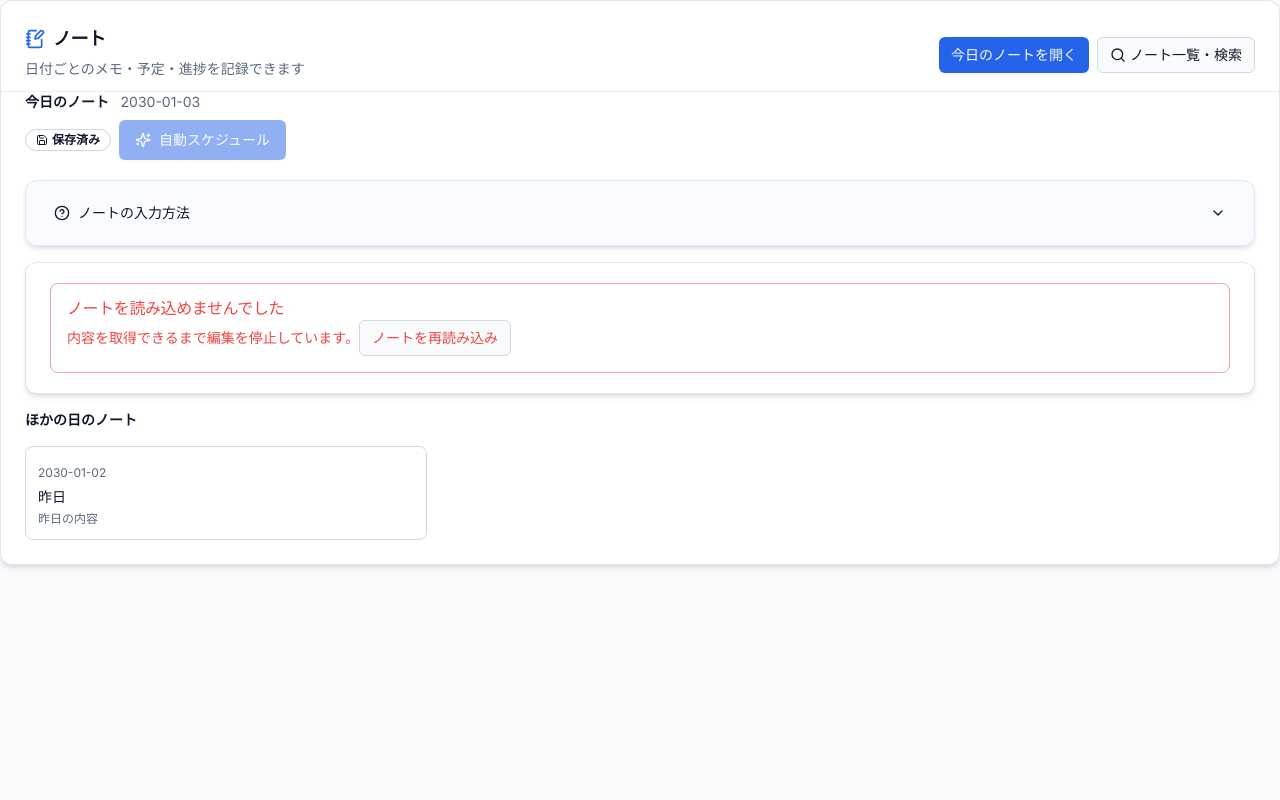
Test: retries today's load independently and never presents another day's note as today
The width and height of the screenshot is (1280, 800).
Expected: the heading "ノートを読み込めませんでした" is shown, [67,298,284,318]
Expected: the element "今日のノート" does not show "昨日の内容", [25,92,1255,394]
Click the button "ノートを再読み込み" at [435, 338], box [359,320,511,356]
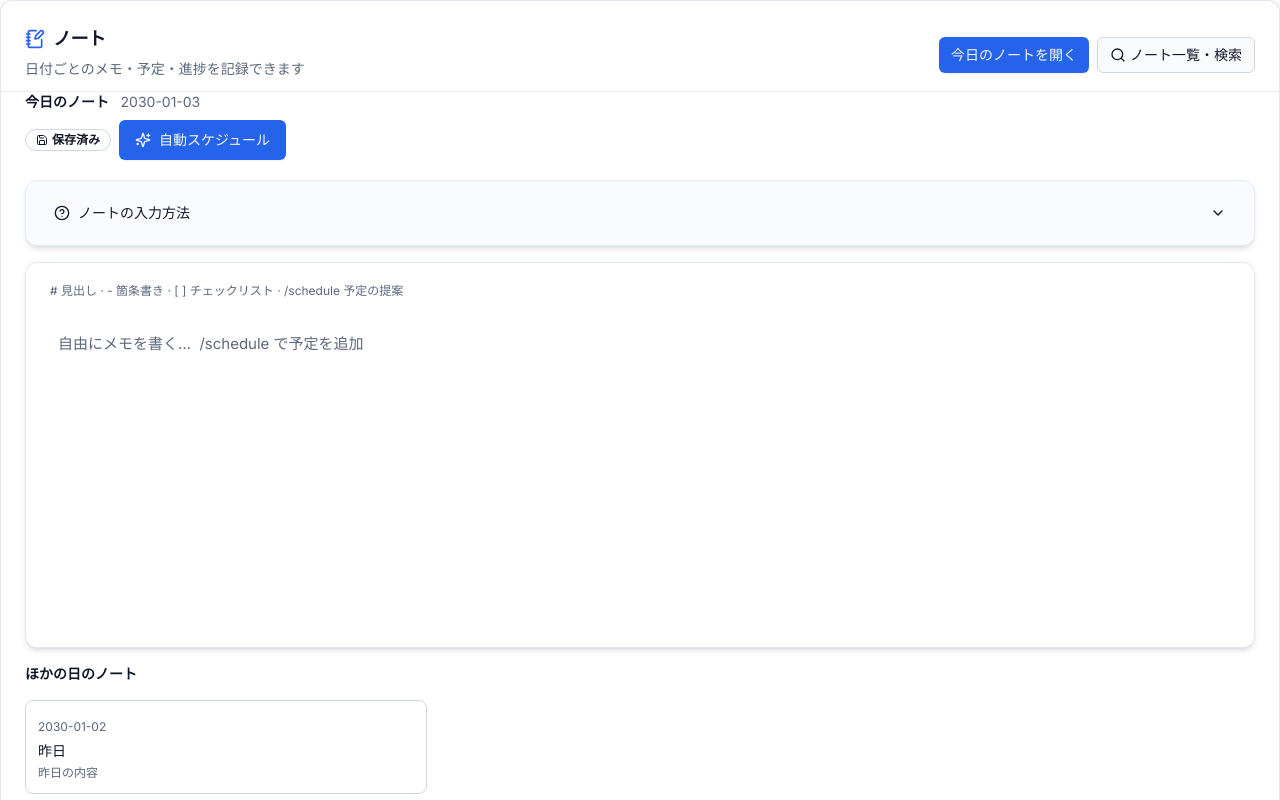
Expected: the field named "日次ノート" is shown, [50,307,1230,627]
